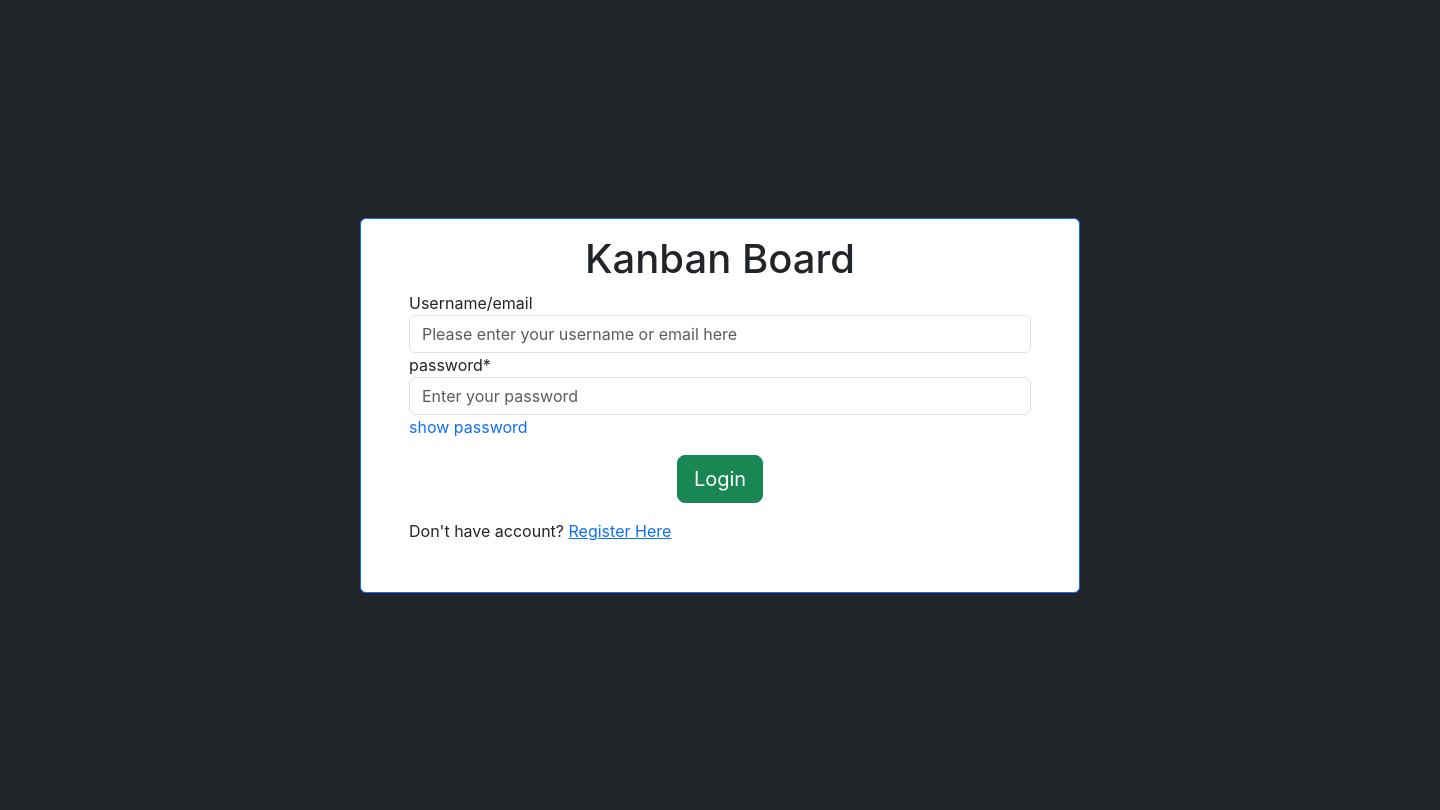
Test: renders home componenet correctly › entering password more than 20 charcters should show error
In the password field with placeholder "Enter your password": (720, 396) [409,376,1031,414], type "abcdabcdabcdabcdabcda"
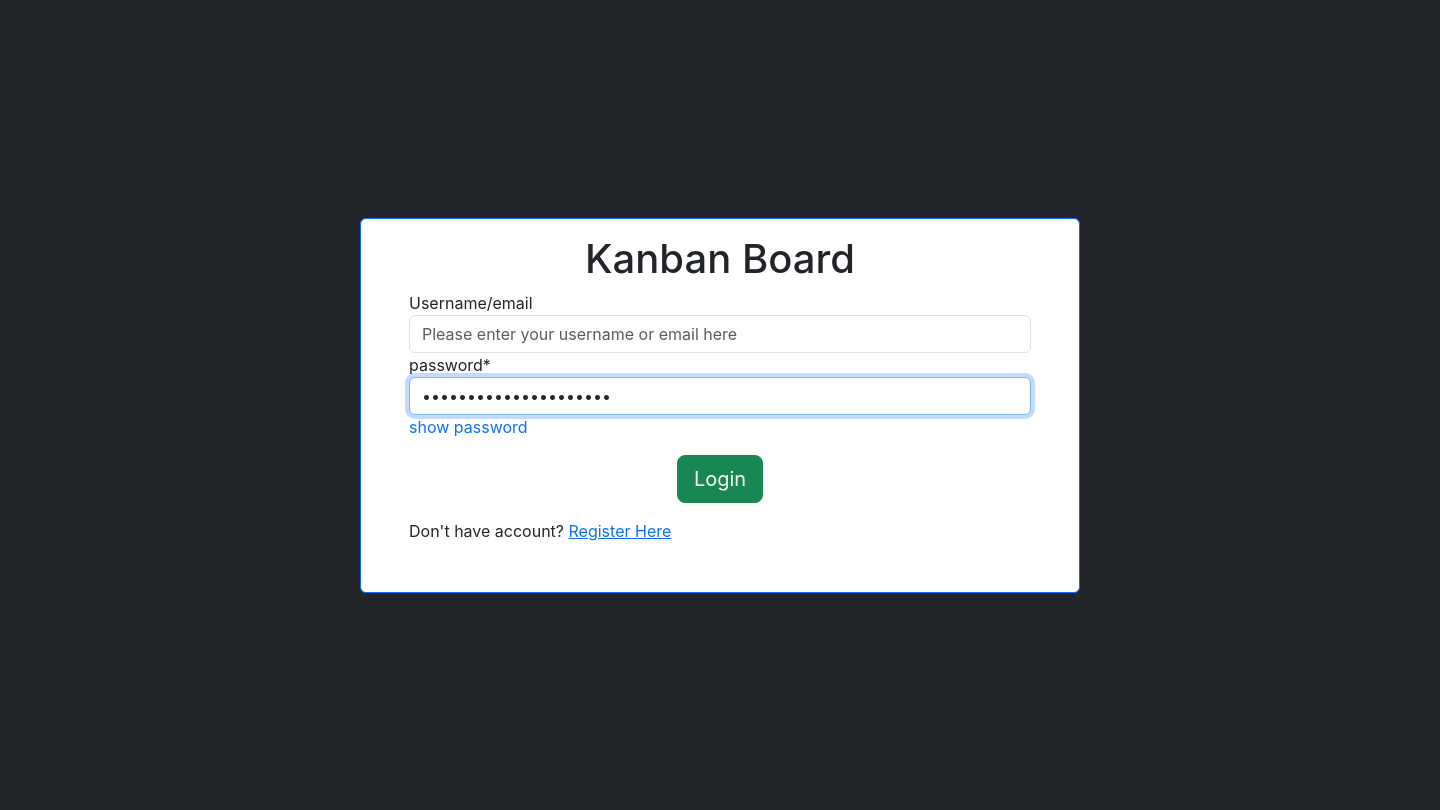
Click the element that starts with "Kanban Board": (720, 405) [0,0,1439,809]
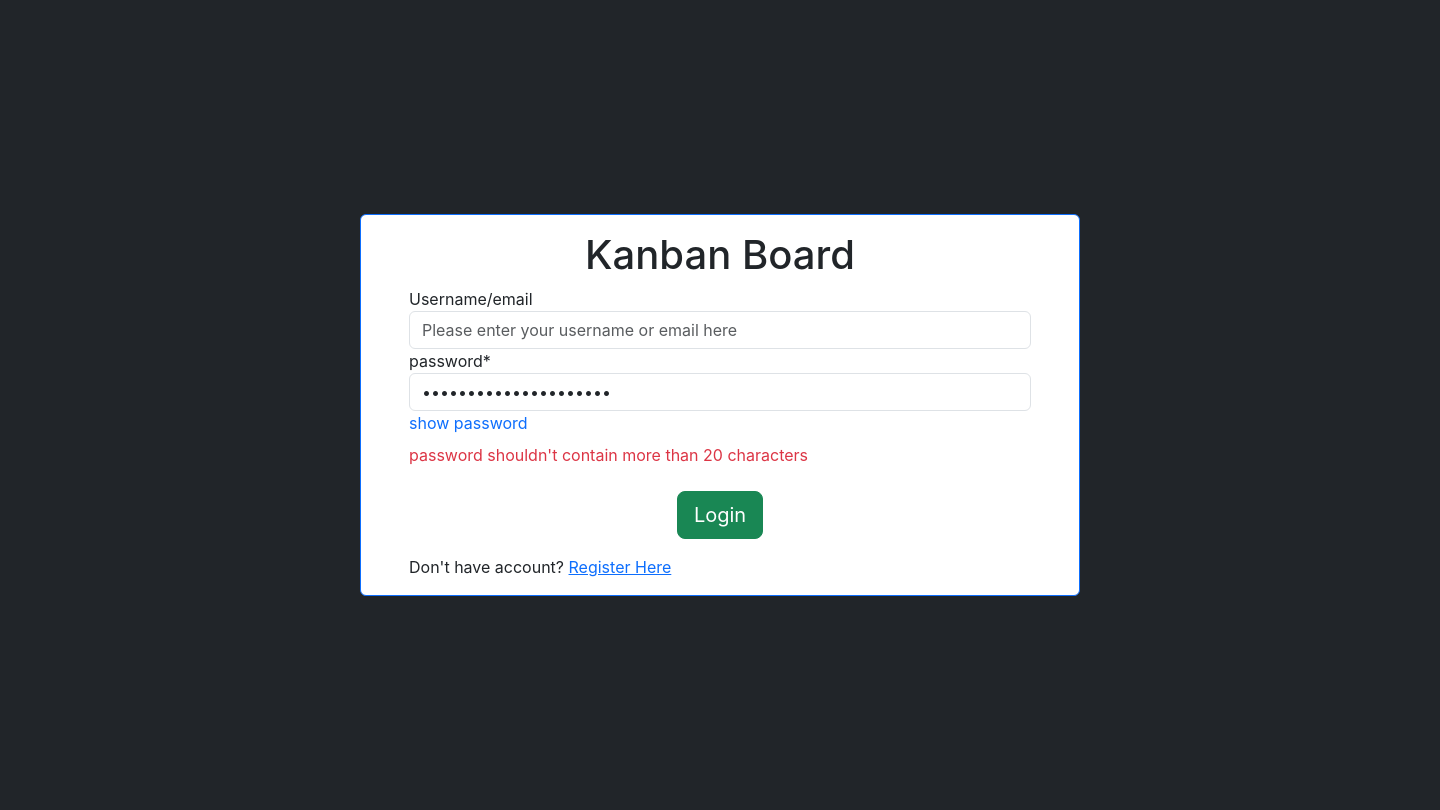
Now the text "password shouldn't contain more than 20 characters" is shown, box [409,445,808,465]
